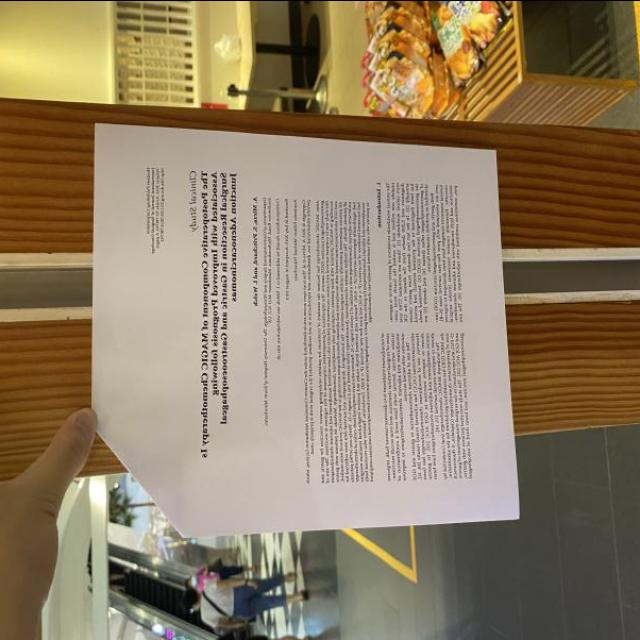kertas: (87, 113, 519, 536)
